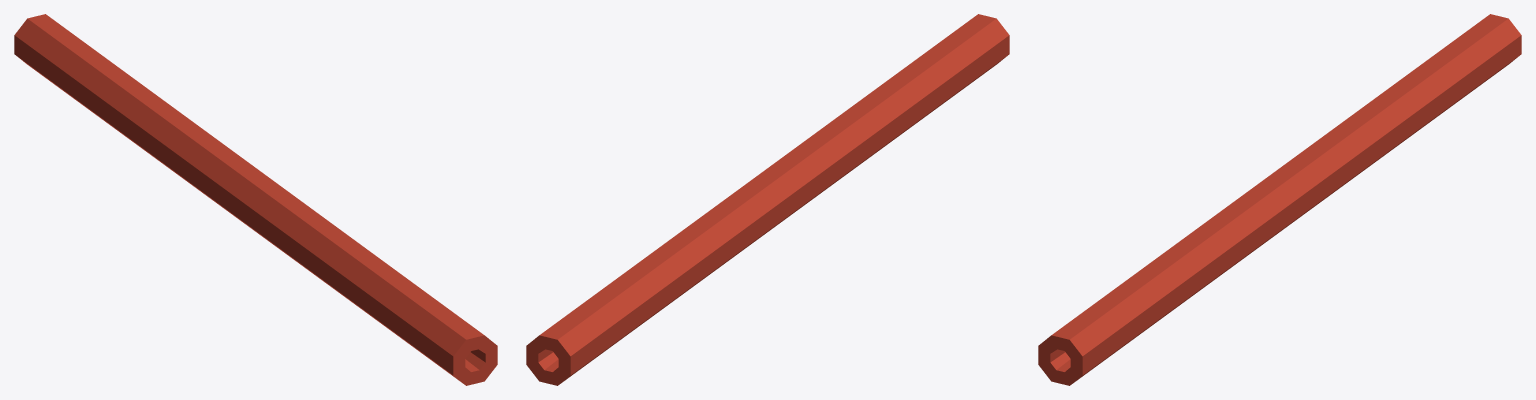
The model's file is SM_Prop_Pool_Float_Noodle_01.fbx.
3 renders of one model, left to right at view 1: azimuth 30°, elevation 25°; view 2: azimuth 150°, elevation 25°; view 3: azimuth 330°, elevation 25°, orthographic.
Visible parts, largest first — view 1: SM_Prop_Pool_Float_Noodle_01; view 2: SM_Prop_Pool_Float_Noodle_01; view 3: SM_Prop_Pool_Float_Noodle_01.
Part boxes in pixels (x1=…): SM_Prop_Pool_Float_Noodle_01: x1=14, y1=14, x2=497, y2=385; SM_Prop_Pool_Float_Noodle_01: x1=526, y1=14, x2=1009, y2=385; SM_Prop_Pool_Float_Noodle_01: x1=1038, y1=14, x2=1521, y2=385.
Size of the model in its own units: 15.81 by 15.81 by 272.
